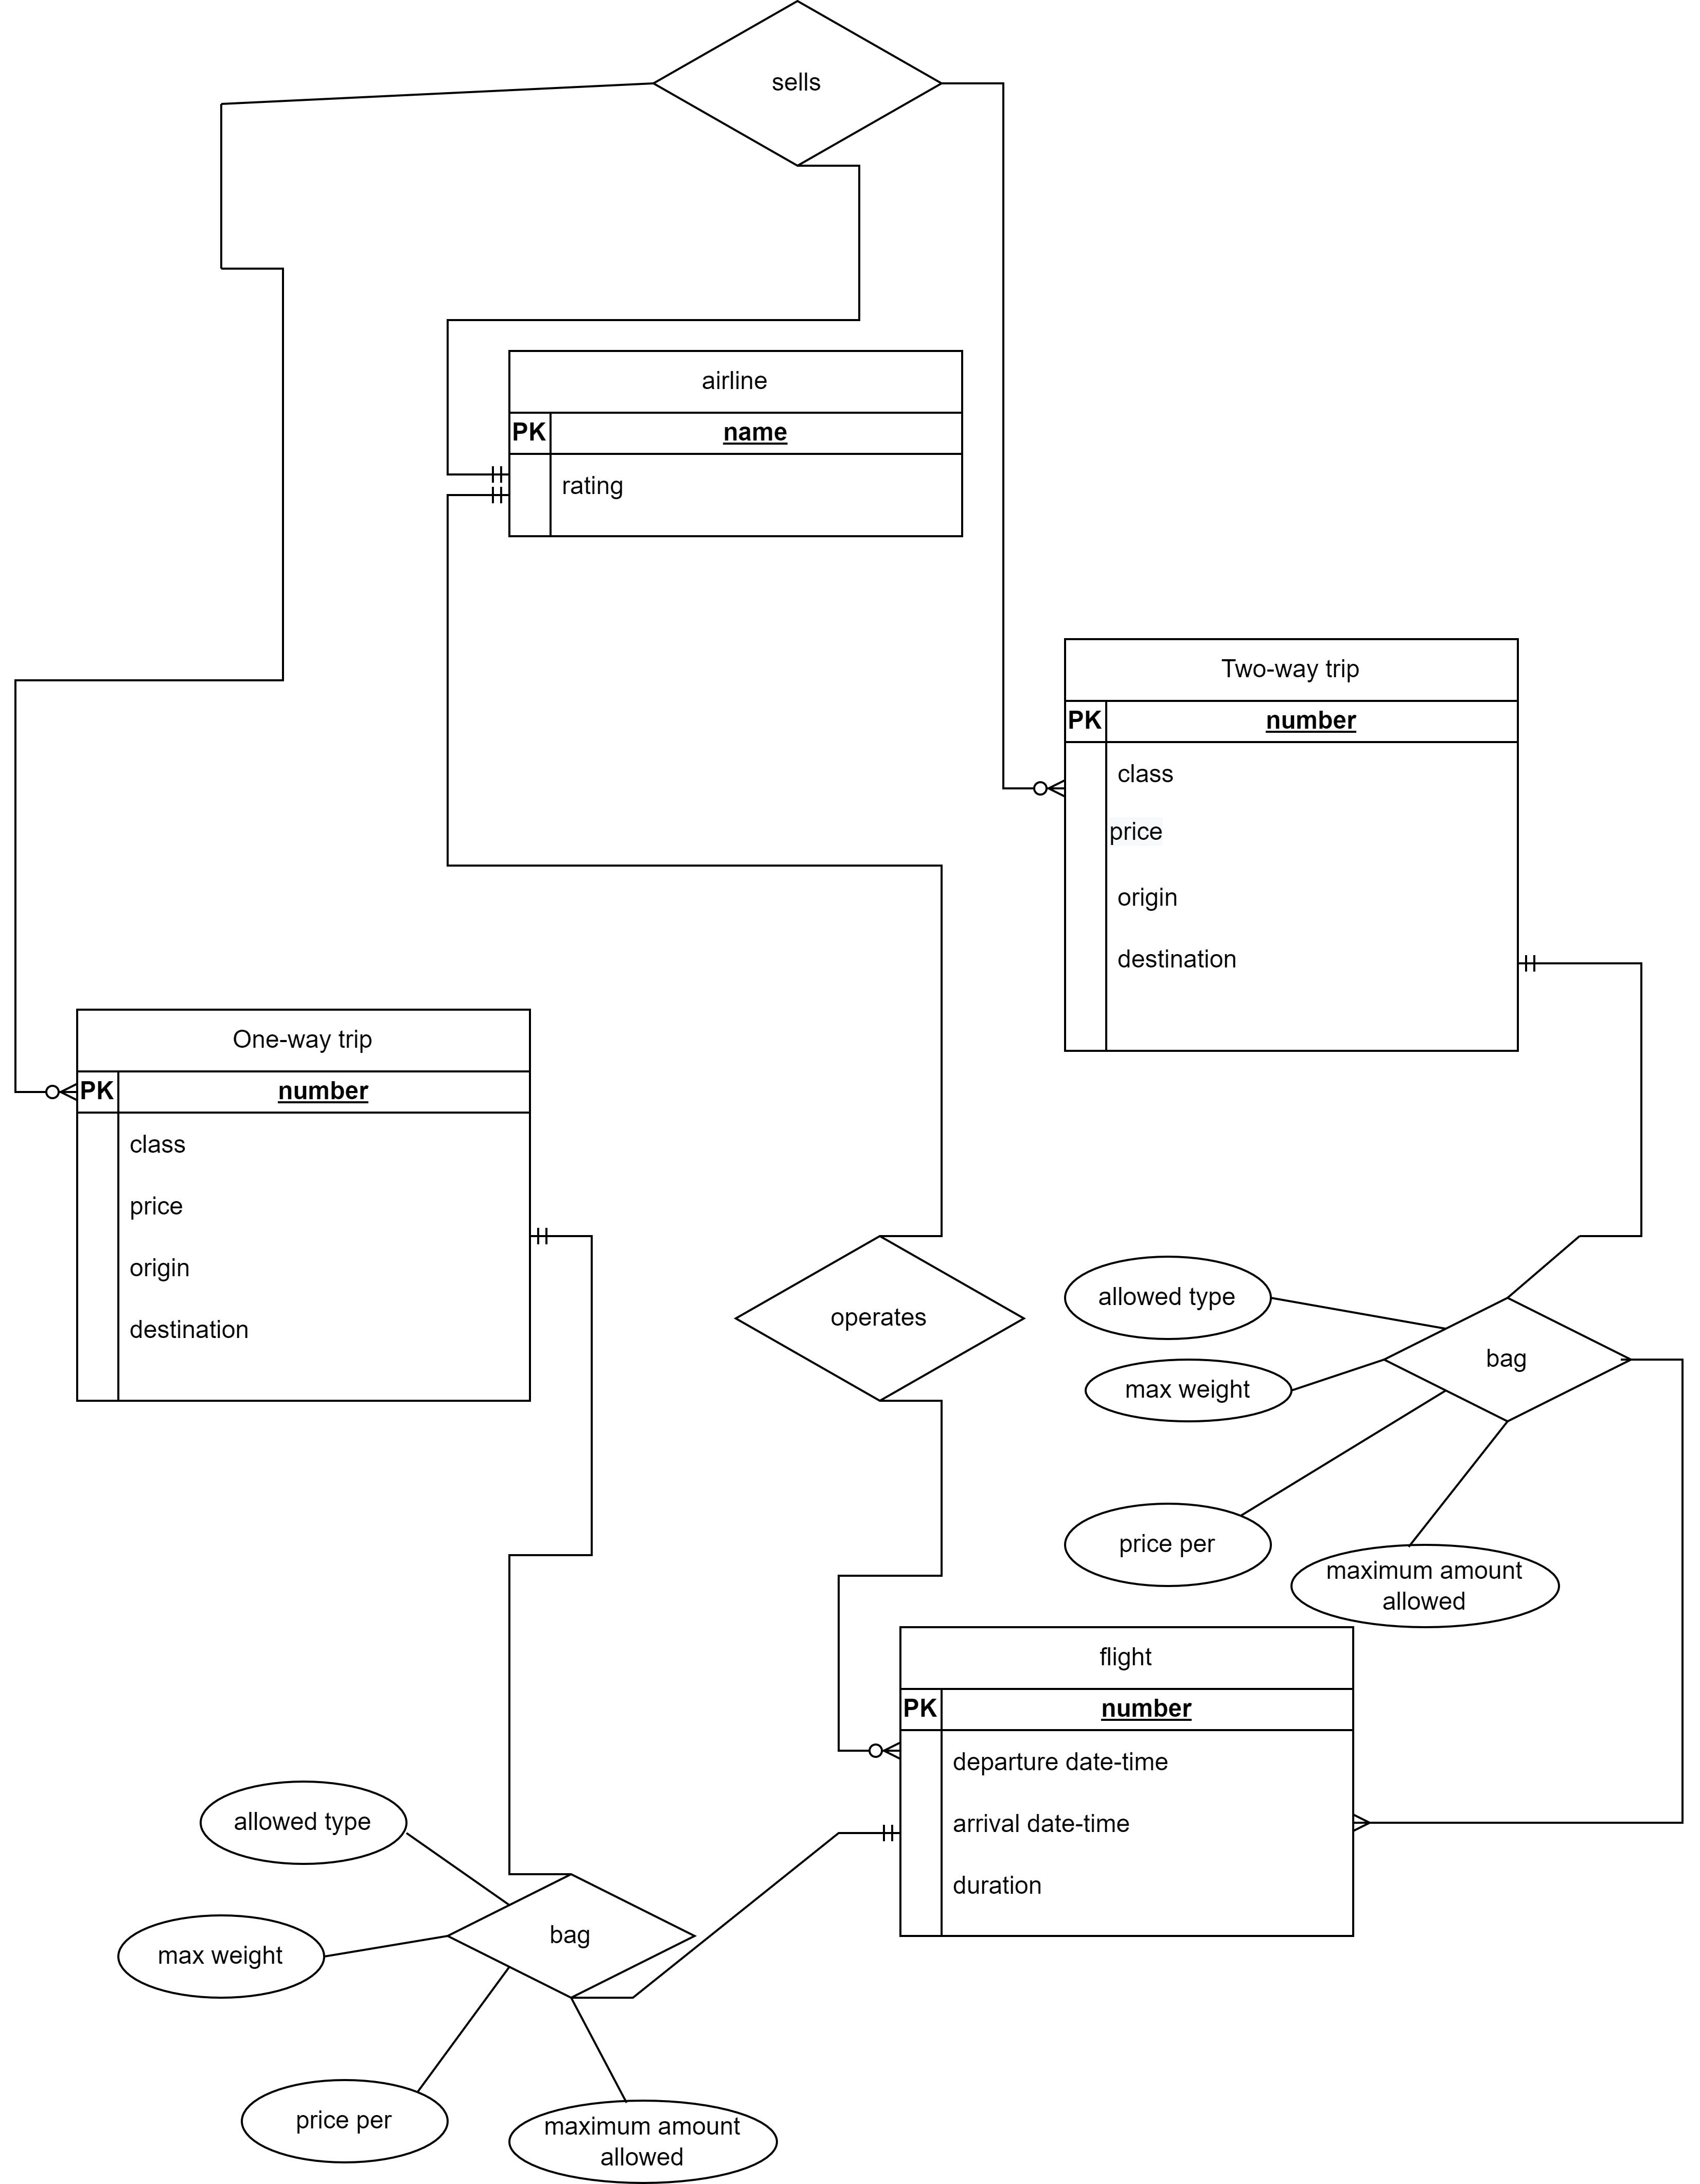attribute: (1285, 1539, 1562, 1629), (509, 2101, 787, 2184), (197, 1773, 402, 1867), (115, 1911, 324, 1998), (1062, 1505, 1269, 1590), (1065, 1252, 1269, 1337), (238, 2079, 448, 2161), (1080, 1361, 1289, 1427)
entity: (1058, 643, 1519, 1057), (73, 1003, 534, 1409), (895, 1617, 1361, 1943), (505, 351, 968, 548)
relationship: (647, 0, 940, 165), (734, 1234, 1019, 1400), (447, 1877, 690, 2005), (1383, 1298, 1629, 1422)
